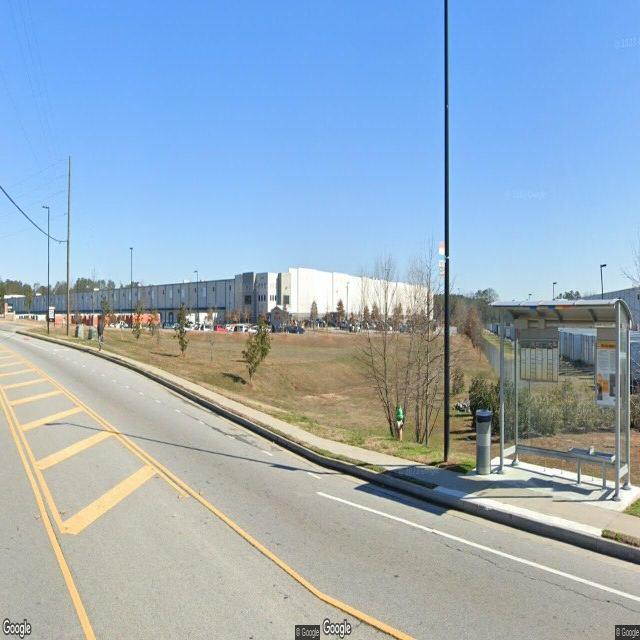seating: (569, 446, 615, 490)
shelter: (487, 297, 636, 497)
trash_can: (476, 410, 492, 474)
